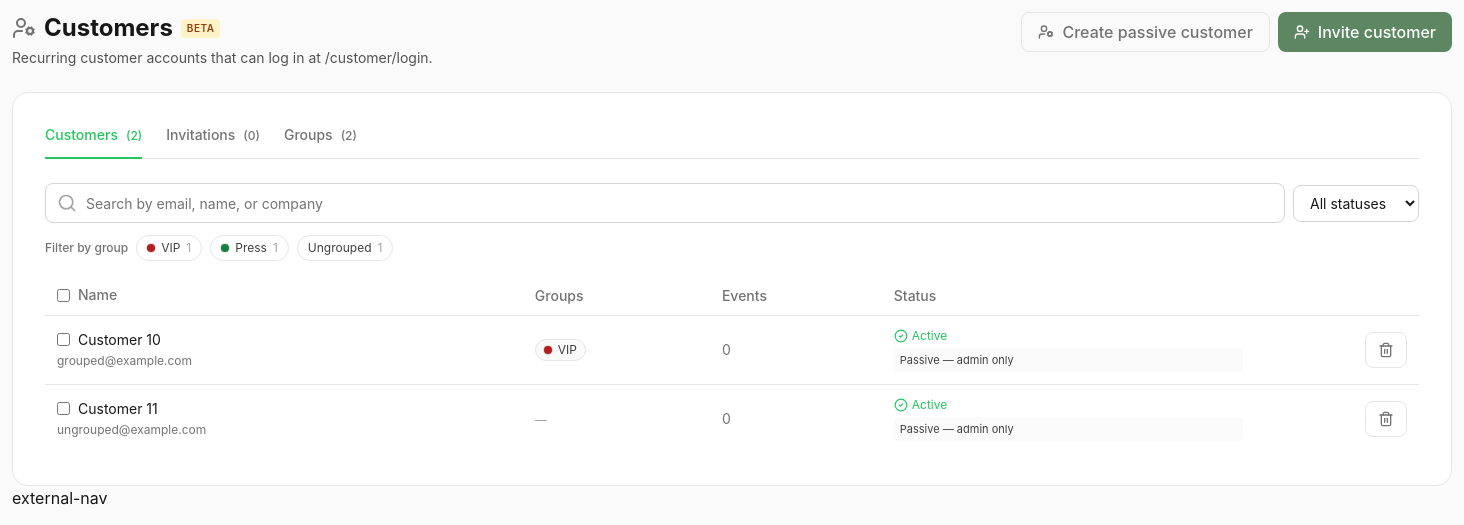
Test: filters in the URL › writes every change back to the URL, offers Any/All only for two groups, and Clear empties it
Expected: the text "grouped@example.com" is shown, [57,353,192,368]
Click the button "VIP 1" at point(169, 248), box [136,235,202,261]
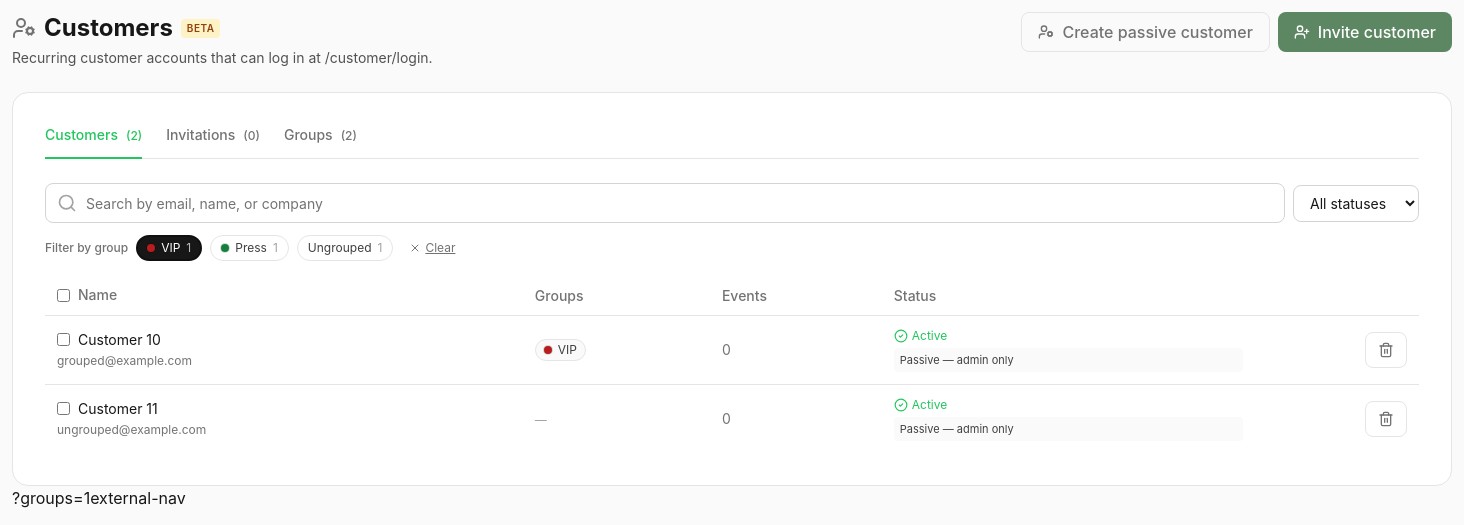
Expected: the button "All of them" is not shown
Now the text with test id "location" reads "?groups=1", box [12,488,90,508]
Click the button "Press 1" at point(250, 248), box [210,235,289,261]
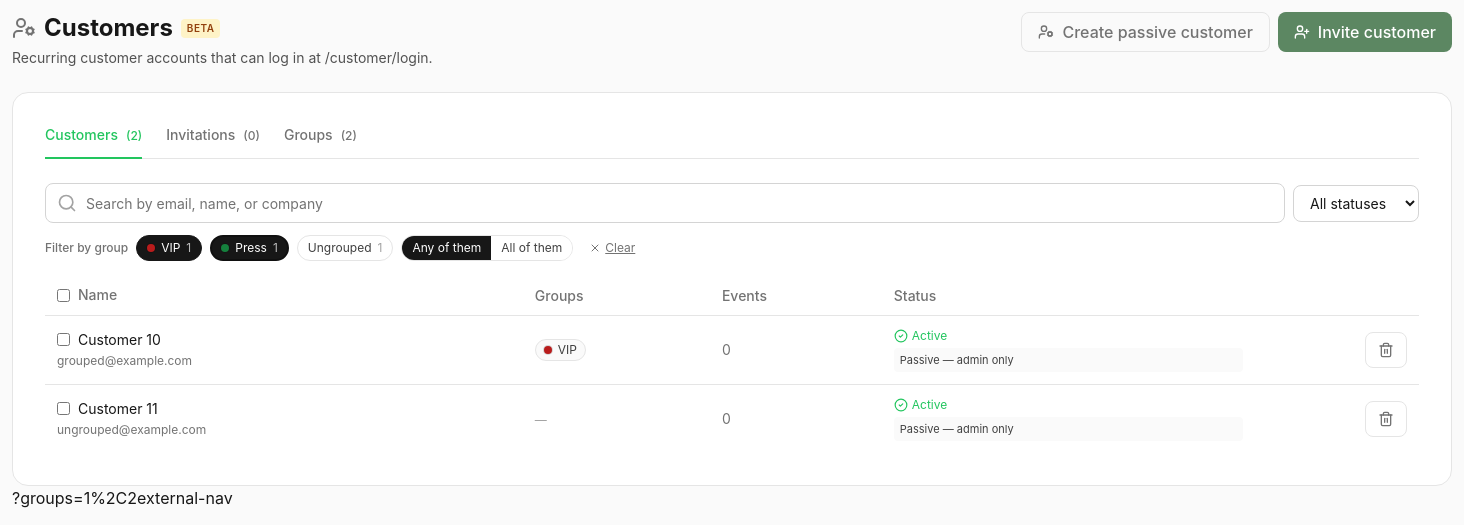
Click the button "All of them" at point(532, 248), box [491,236,572,260]
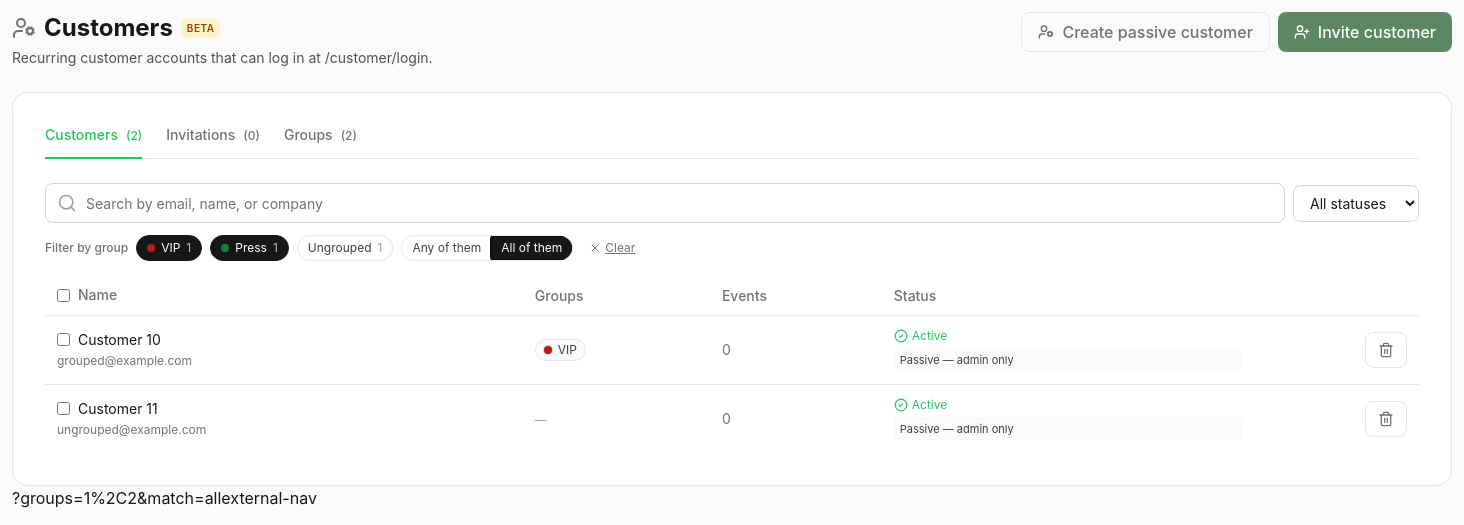
Select "Deactivated" in the dropdown named "Status" at point(1356, 203), box [1293,184,1419,222]
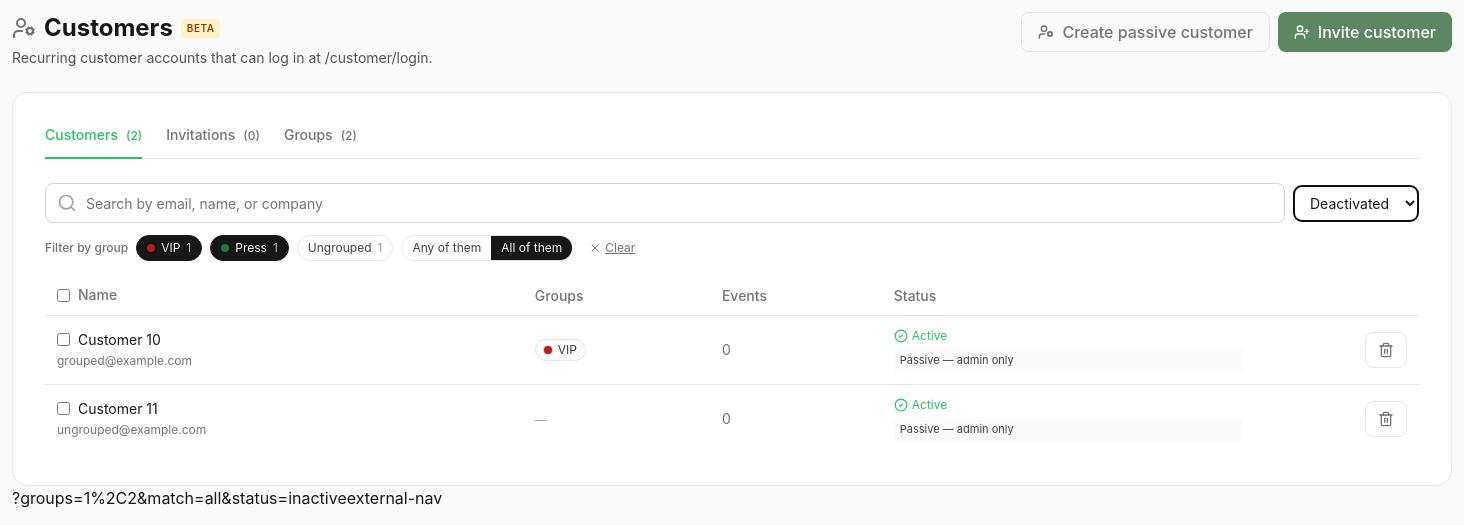
Type "grouped" into the field with placeholder "Search by email, name, or company" at point(665, 203), box [45,183,1285,223]
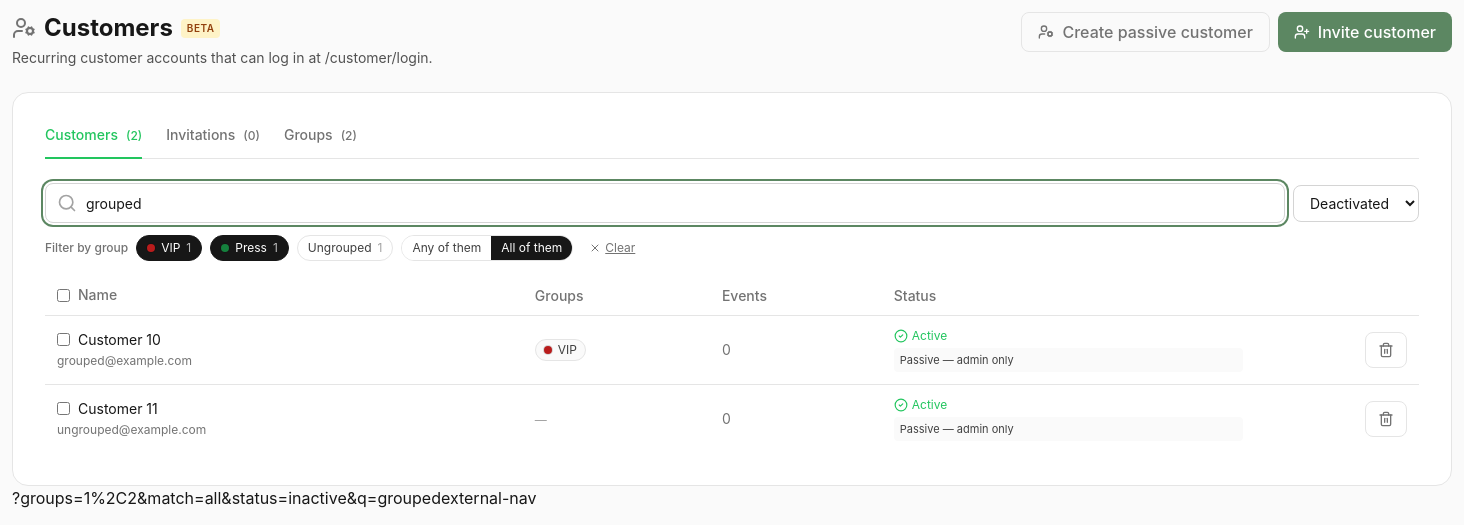
Now the text with test id "location" shows "q=grouped", box [12,488,441,508]
Click the button "Clear" at point(612, 248), box [581,236,643,260]
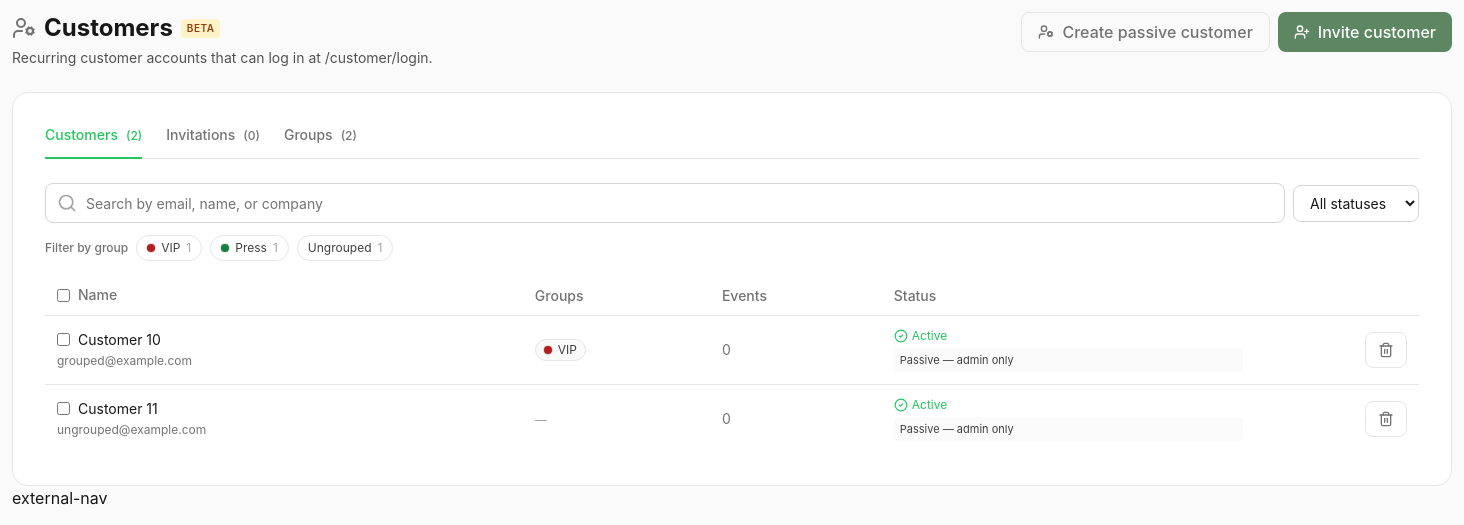
Now the field with placeholder "Search by email, name, or company" is empty, box [45,183,1285,223]
